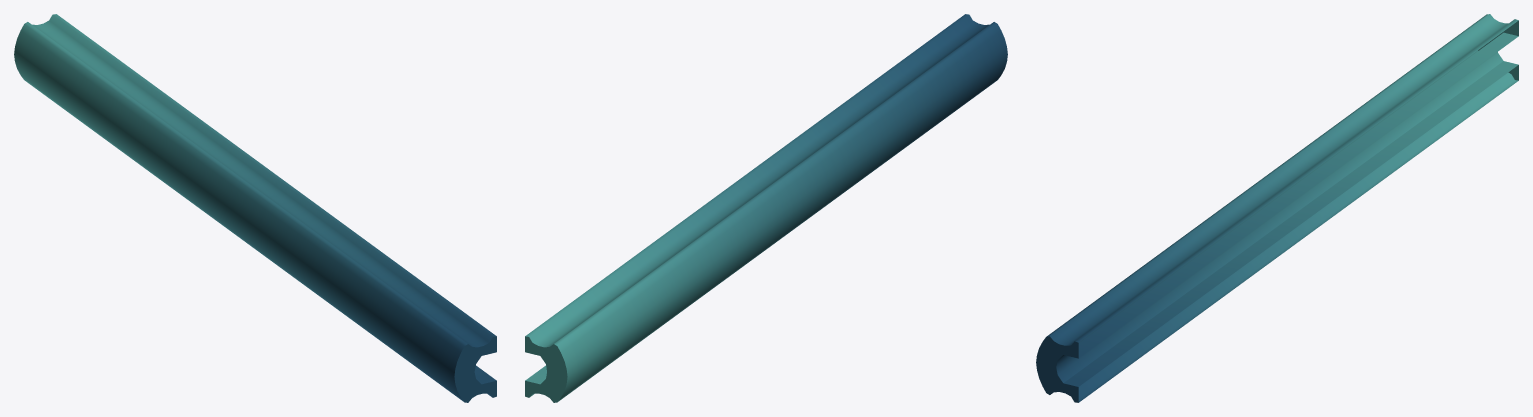
Rendered from 연결부분.FBX.
The picture shows the model from 3 angles, left to right: view 1: azimuth 30°, elevation 25°; view 2: azimuth 150°, elevation 25°; view 3: azimuth 330°, elevation 25°; orthographic projection.
Visible parts, largest first — view 1: Object005; view 2: Object005; view 3: Object005.
Part boxes in pixels (<box>): Object005: <box>14,14,496,402</box>; Object005: <box>525,14,1007,402</box>; Object005: <box>1036,14,1518,402</box>.
Size of the model in its own units: 55.7 by 76.43 by 1000.
